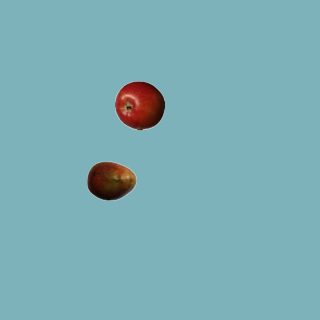Apple Braeburn: (114, 80, 164, 130)
Mango Red: (86, 155, 136, 205)
